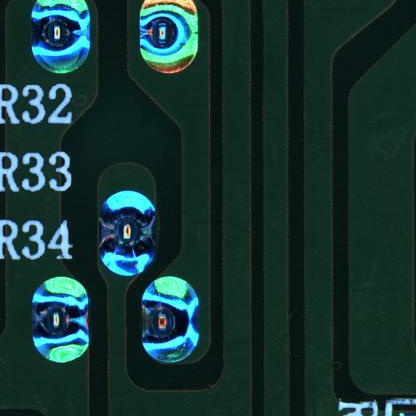spot: (87, 183, 164, 279), (27, 276, 99, 368), (137, 275, 203, 364)
